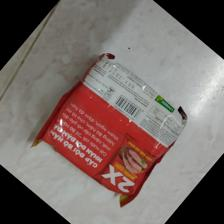3mien: (30, 51, 188, 208)
